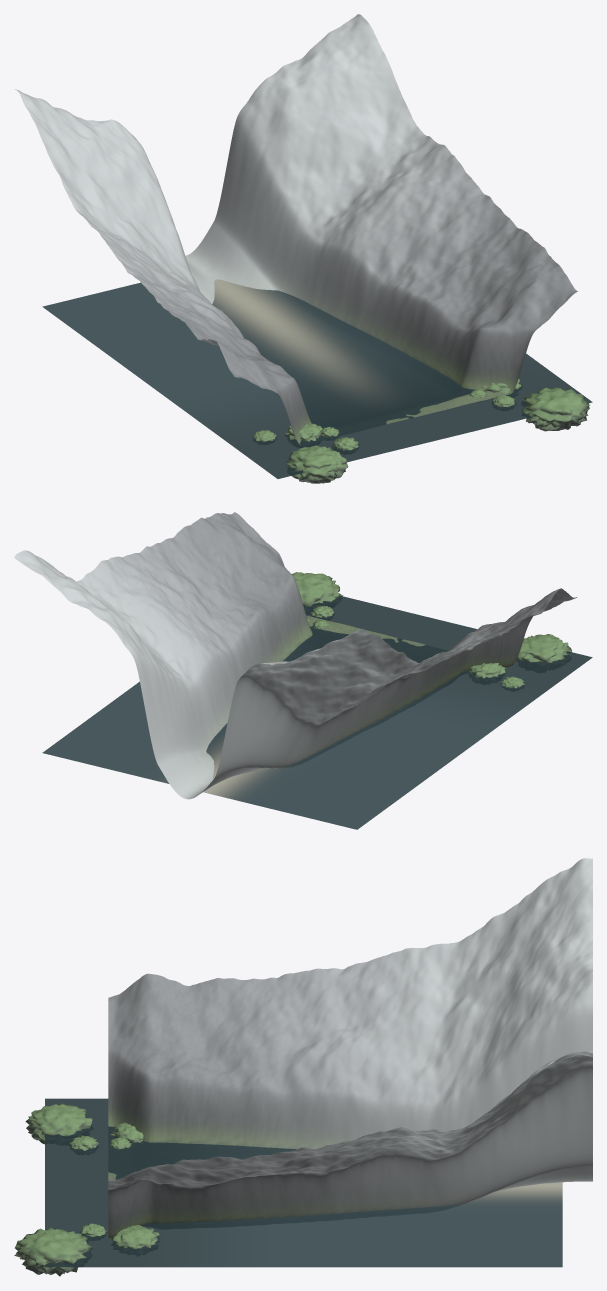
Rendered from environment.glb.
3 renders of one model, top to bottom at view 1: azimuth 30°, elevation 25°; view 2: azimuth 150°, elevation 25°; view 3: azimuth 270°, elevation 25°, orthographic. The views are drawn at different scales.
Visible parts, largest first — view 1: Terrain, Water, Rock1, Rock0; view 2: Terrain, Water, Rock0, Rock1, Rock4; view 3: Terrain, Water, Rock1, Rock0, Rock6.
Boxes of the visible parts, x1=… form: Terrain: x1=15, y1=14, x2=577, y2=445; Water: x1=42, y1=279, x2=592, y2=478; Rock1: x1=522, y1=387, x2=589, y2=431; Rock0: x1=286, y1=445, x2=348, y2=483; Terrain: x1=14, y1=512, x2=577, y2=799; Water: x1=42, y1=595, x2=592, y2=829; Rock0: x1=517, y1=634, x2=571, y2=662; Rock1: x1=292, y1=572, x2=343, y2=606; Rock4: x1=469, y1=663, x2=505, y2=678; Terrain: x1=108, y1=858, x2=592, y2=1238; Water: x1=45, y1=1098, x2=562, y2=1267; Rock1: x1=14, y1=1227, x2=92, y2=1276; Rock0: x1=25, y1=1103, x2=93, y2=1144; Rock6: x1=112, y1=1225, x2=159, y2=1249.
Size of what is drawn, in the model's own units: 144 by 91.81 by 191.
